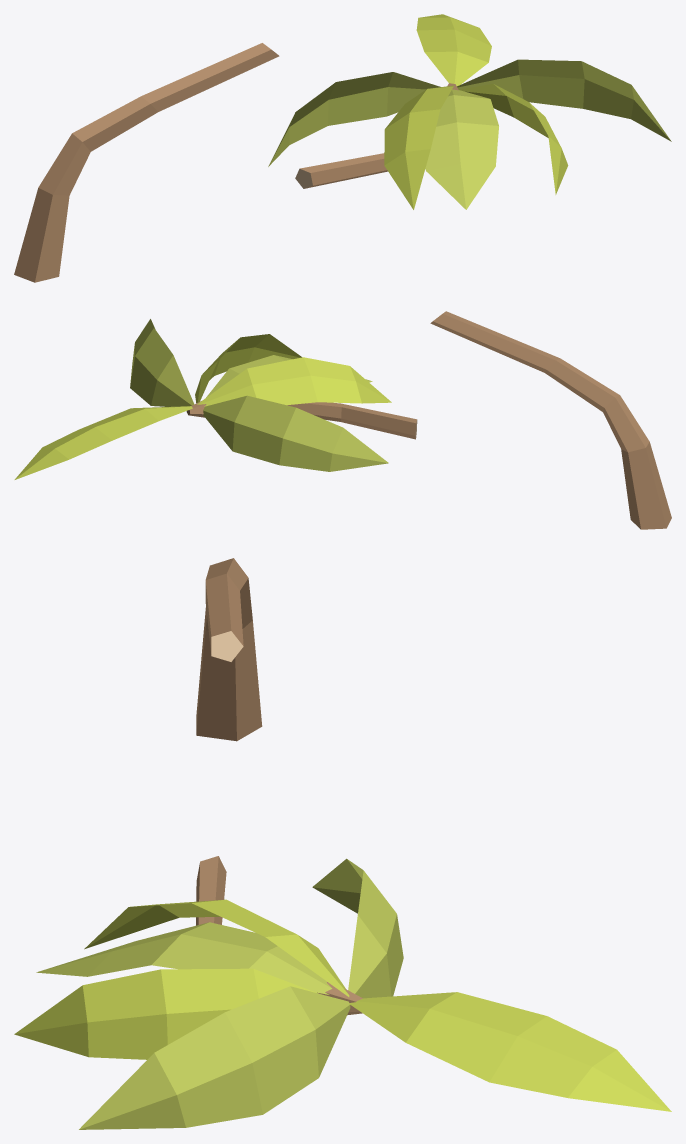
File: Palm_Tree_crk_m_04.fbx
3 views of the same model, one above another, from view 1: azimuth 30°, elevation 25°; view 2: azimuth 150°, elevation 25°; view 3: azimuth 270°, elevation 25° (orthographic). The views are drawn at different scales.
Parts seen in each view (by area): view 1: Palm_Tree_crk_m_04; view 2: Palm_Tree_crk_m_04; view 3: Palm_Tree_crk_m_04.
Part boxes in pixels (x1,y1,x2,y2): Palm_Tree_crk_m_04: (14, 14, 671, 282); Palm_Tree_crk_m_04: (14, 311, 671, 529); Palm_Tree_crk_m_04: (14, 558, 671, 1129).
Bounding box in the file's own units: 614 × 168 × 377.
